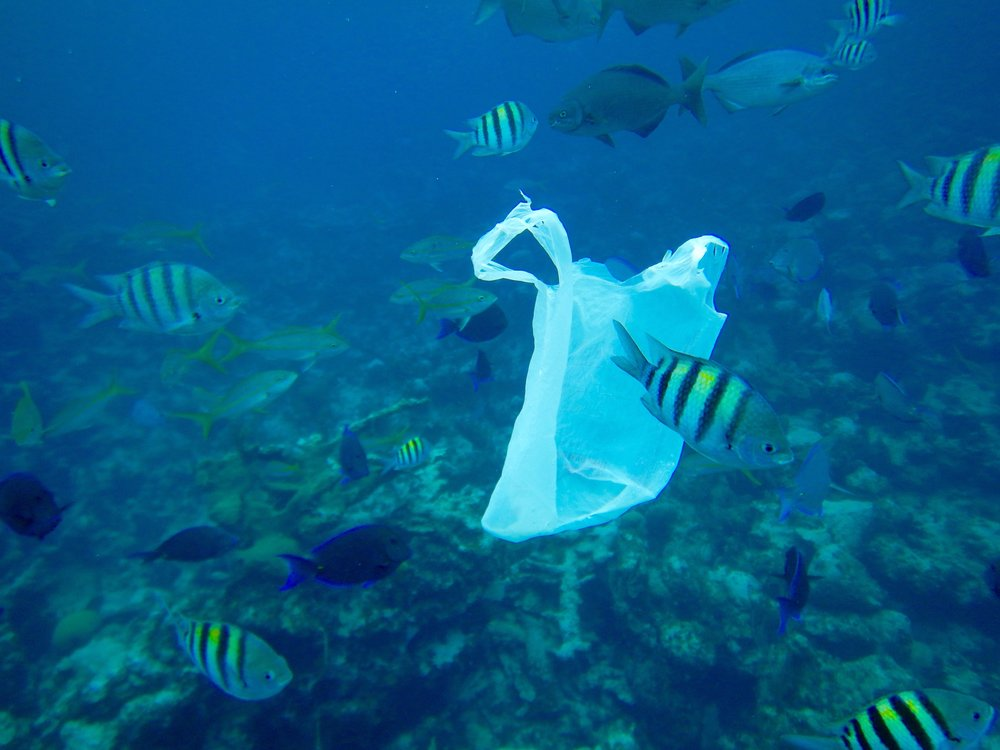fish: (599, 329, 812, 477), (751, 669, 1000, 748), (62, 254, 249, 348), (254, 510, 441, 596), (542, 62, 722, 150), (137, 617, 319, 703), (414, 80, 550, 169), (155, 363, 311, 434), (883, 143, 1000, 237), (772, 445, 871, 537), (1, 124, 116, 199), (764, 538, 851, 635), (328, 425, 444, 488), (6, 466, 84, 558), (221, 321, 360, 366), (50, 371, 133, 440), (6, 377, 73, 462), (387, 230, 490, 278), (140, 524, 244, 564), (404, 283, 503, 322), (395, 424, 443, 482)
litter: (443, 201, 731, 549)
